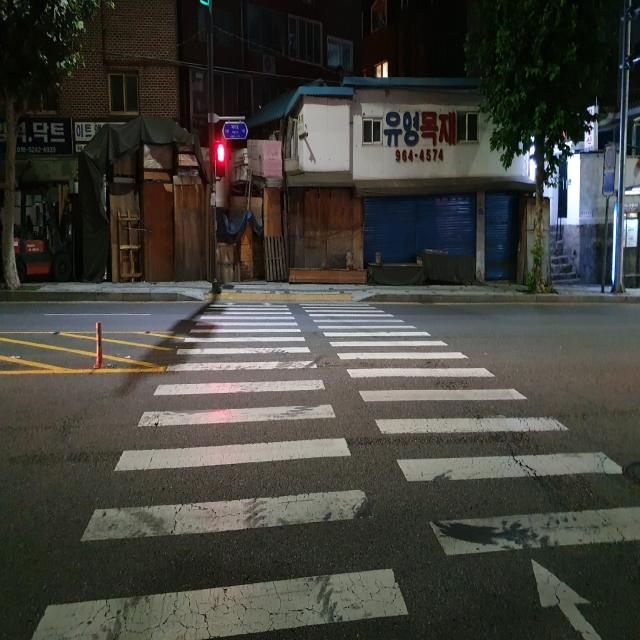빨간불: (214, 140, 226, 179)
횡단보도: (34, 296, 640, 640)
